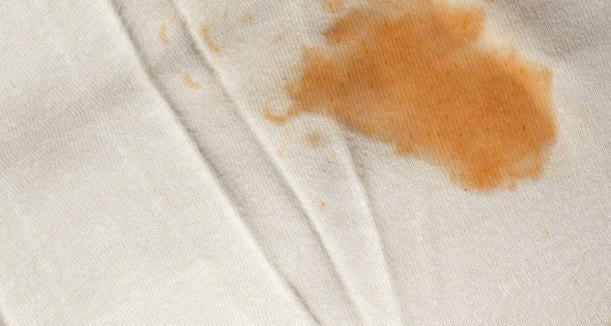stain: (259, 0, 577, 201), (199, 22, 232, 60), (179, 66, 211, 96), (156, 20, 177, 49)
